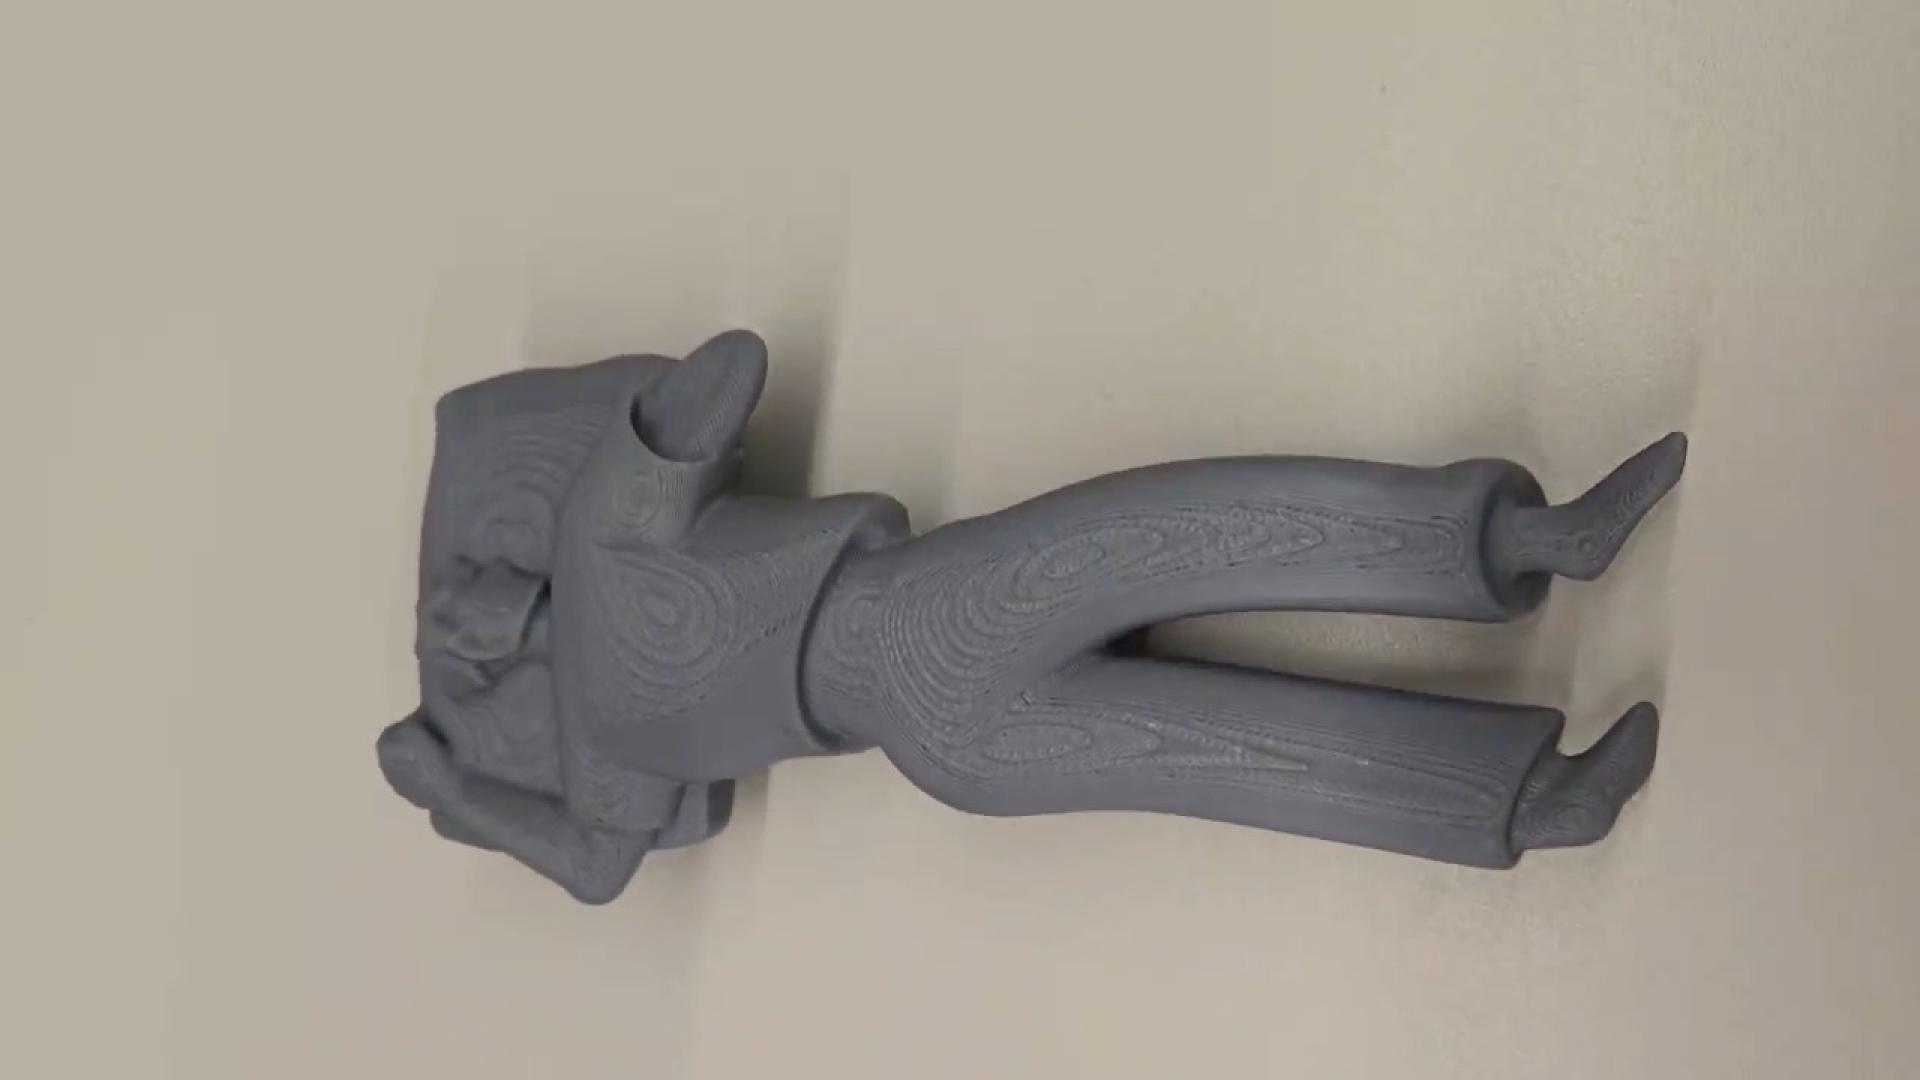Bad-style: (363, 331, 1698, 942)
